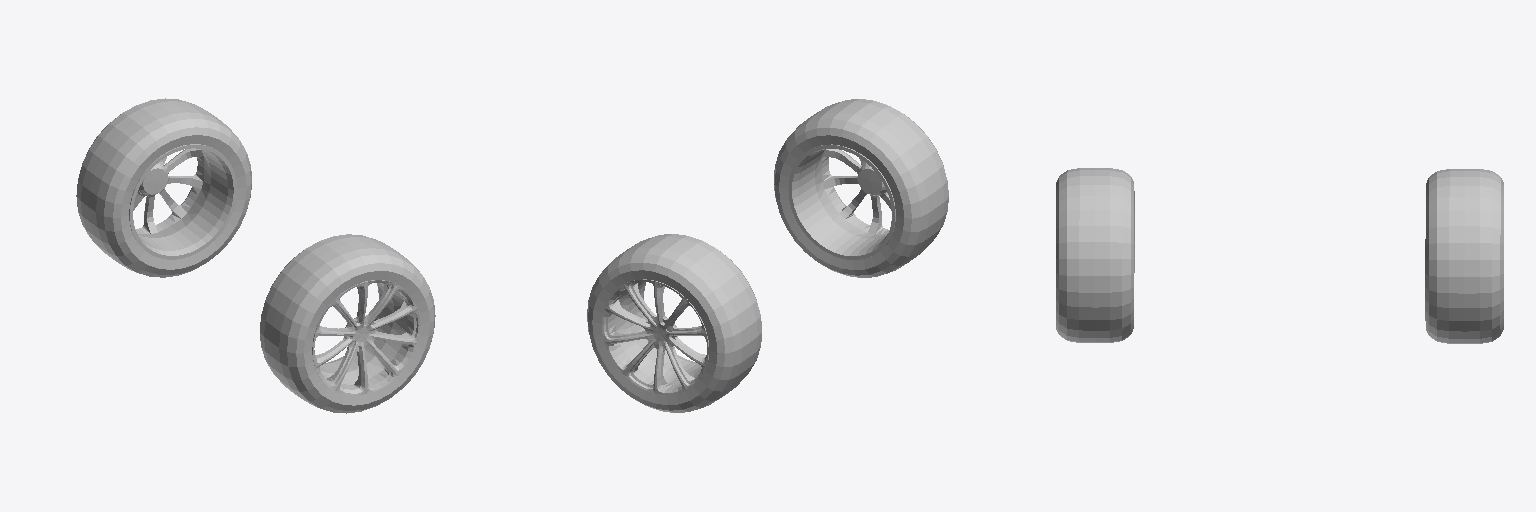
The model's file is rodas_frente.obj.
The picture shows the model from 3 angles: view 1: azimuth 30°, elevation 25°; view 2: azimuth 150°, elevation 25°; view 3: azimuth 270°, elevation 25°; orthographic projection.
Parts seen in each view (by area): view 1: Dieci_-_FR_(Octane)_Dieci_Tread_0.001, Dieci_-_FL_(Octane)_Dieci_Tread_0.001; view 2: Dieci_-_FL_(Octane)_Dieci_Tread_0.001, Dieci_-_FR_(Octane)_Dieci_Tread_0.001; view 3: Dieci_-_FL_(Octane)_Dieci_Tread_0.001, Dieci_-_FR_(Octane)_Dieci_Tread_0.001.
Part boxes in pixels (x1,y1,x2,y2): Dieci_-_FR_(Octane)_Dieci_Tread_0.001: (76, 98, 251, 277); Dieci_-_FL_(Octane)_Dieci_Tread_0.001: (260, 234, 435, 413); Dieci_-_FL_(Octane)_Dieci_Tread_0.001: (774, 99, 948, 277); Dieci_-_FR_(Octane)_Dieci_Tread_0.001: (587, 234, 761, 412); Dieci_-_FL_(Octane)_Dieci_Tread_0.001: (1056, 168, 1134, 342); Dieci_-_FR_(Octane)_Dieci_Tread_0.001: (1425, 169, 1503, 343).
Size of the model in its own units: 0.2064 by 0.2041 by 0.5214.